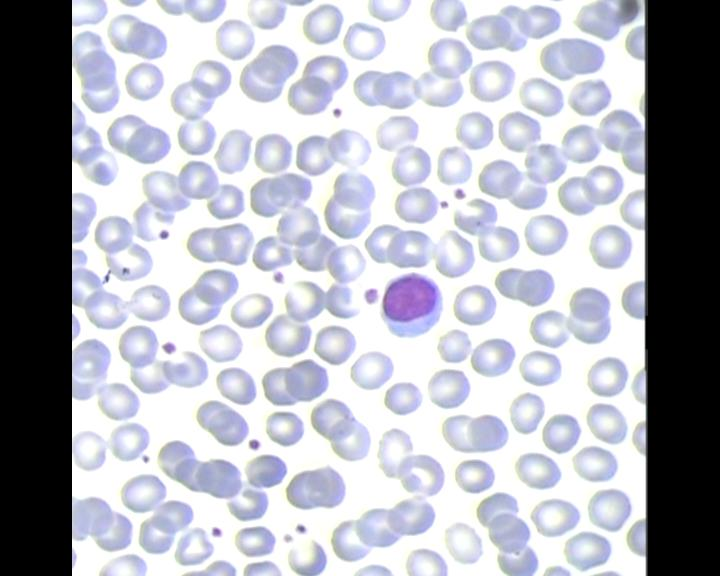lymp: (379, 271, 446, 342)
